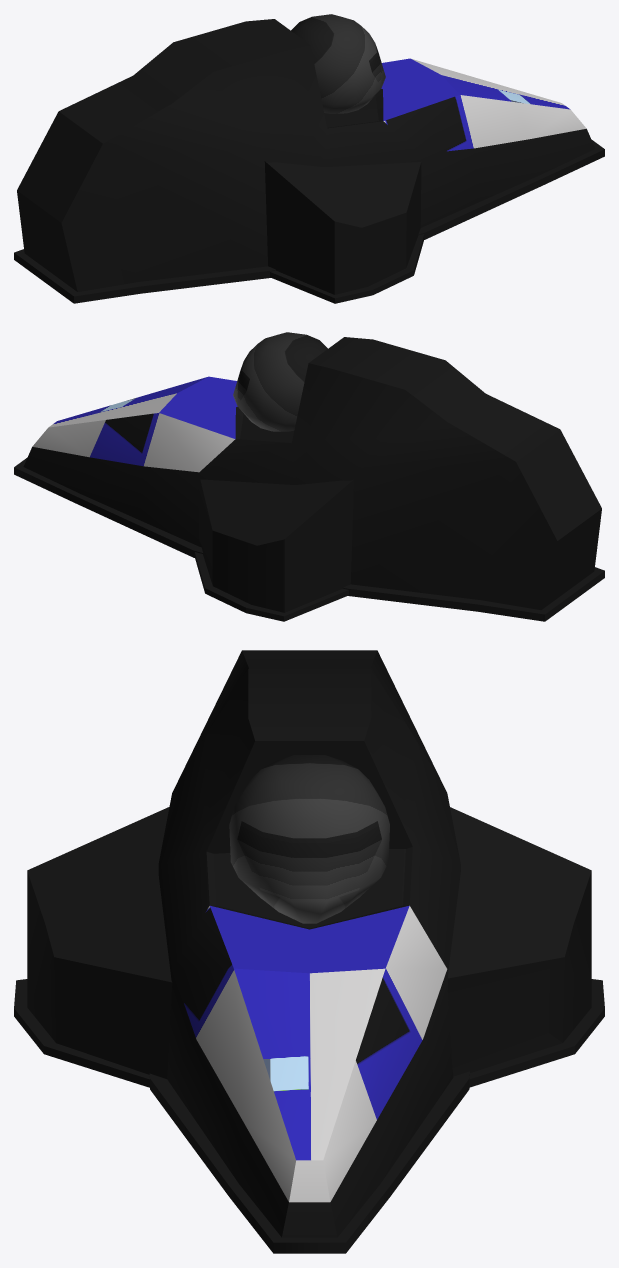
The model's file is Black_Body.FBX.
3 views of the same model, one above another, from view 1: azimuth 30°, elevation 25°; view 2: azimuth 150°, elevation 25°; view 3: azimuth 270°, elevation 25° (orthographic). The views are drawn at different scales.
Parts seen in each view (by area): view 1: Black_Body, Helmet_14_Knight; view 2: Black_Body, Helmet_14_Knight; view 3: Black_Body, Helmet_14_Knight.
Part boxes in pixels (<box>): Black_Body: <box>14,19,604,303</box>; Helmet_14_Knight: <box>291,14,385,113</box>; Black_Body: <box>14,337,604,621</box>; Helmet_14_Knight: <box>233,332,327,431</box>; Black_Body: <box>14,650,604,1253</box>; Helmet_14_Knight: <box>229,755,389,923</box>.
Bounding box in the file's own units: 220 × 72.69 × 133.
